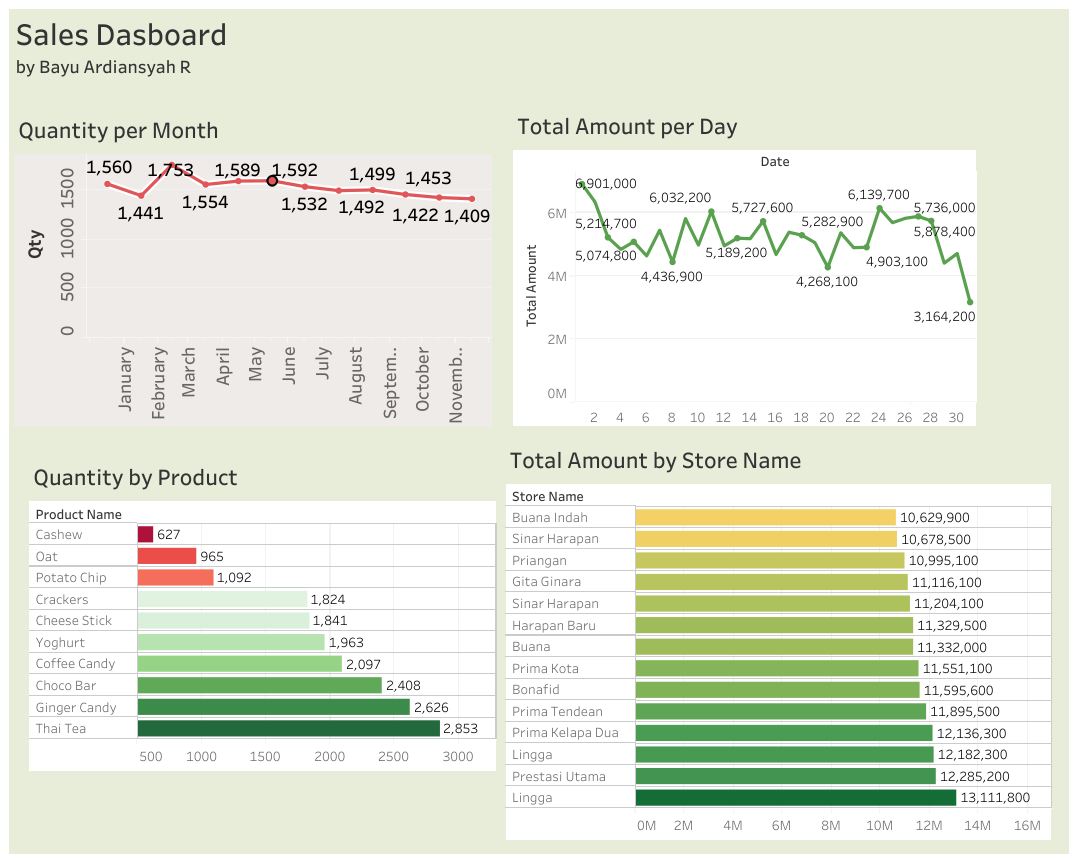

This screenshot's page, from the dashboard's own definition file:
{"tool":"tableau","page":{"name":"Dashboard 1","canvas":[1000,800],"ordinal":0},"visuals":[{"type":"title","box":[8,8,984,69]},{"type":"image","param":"Image/g.png","box":[795,14,194,66]},{"type":"worksheet","title":"Sheet 1","mark":"Line","rows":["Qty"],"cols":["Date"],"box":[30,99,432,294]},{"type":"worksheet","title":"Sheet 2","mark":"Line","rows":["TotalAmount"],"cols":["Date"],"box":[474,101,429,299]},{"type":"worksheet","title":"Sheet 4","mark":"Bar","rows":["StoreID","StoreName"],"cols":["TotalAmount"],"box":[469,406,507,377]},{"type":"worksheet","title":"Sheet 3","mark":"Automatic","rows":["Product Name","ProductID"],"cols":["Qty"],"box":[27,422,434,339]}]}

Visuals, with their boxes in screenshot pixels (x1, y1, x2, y2), scaled from the page's 1000x800 canvas onto the 1077x861 screenshot:
title: box(9, 9, 1068, 83)
image: box(856, 15, 1065, 86)
"Sheet 1" worksheet (Line marks): box(32, 107, 498, 423)
"Sheet 2" worksheet (Line marks): box(510, 109, 973, 430)
"Sheet 4" worksheet (Bar marks): box(505, 437, 1051, 843)
"Sheet 3" worksheet: box(29, 454, 496, 819)
